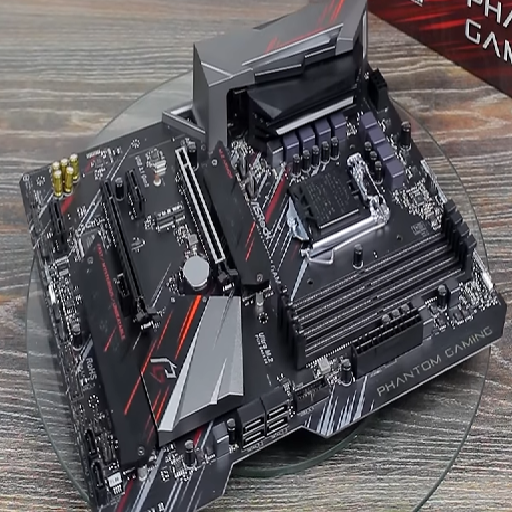CPU: (267, 146, 395, 257)
GPU: (92, 179, 167, 342), (164, 144, 238, 294)
MOTHERBOARD: (21, 5, 512, 508)
RAM: (269, 198, 482, 373)
SSD: (149, 199, 188, 237)
